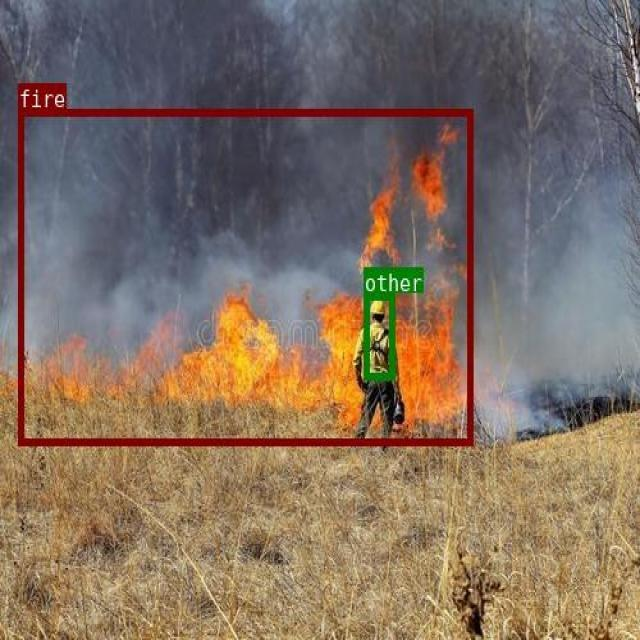fire: (17, 108, 471, 444)
